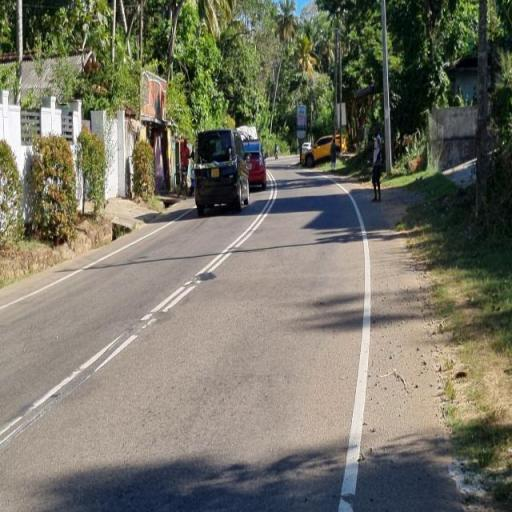double_white_line: (141, 170, 275, 328)
